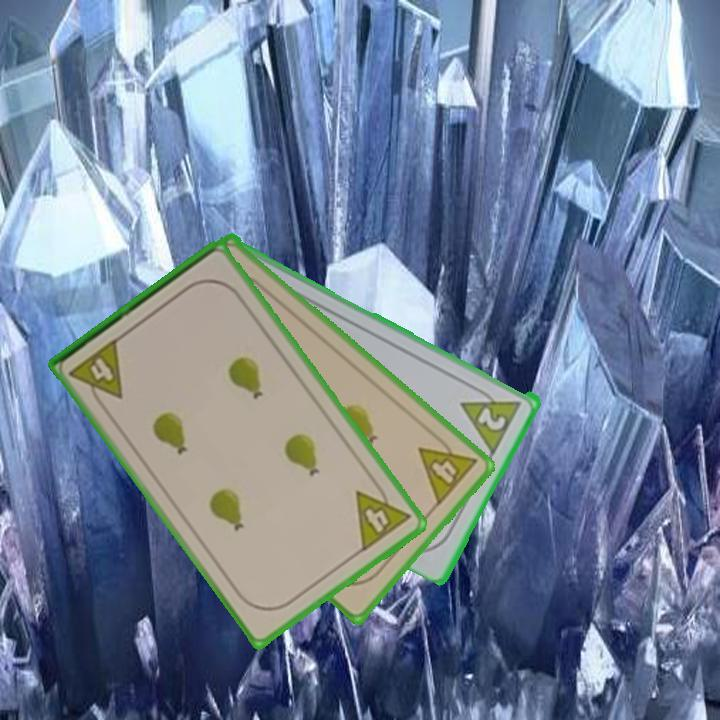2p: (457, 380, 526, 455)
4p: (415, 428, 480, 509), (352, 475, 413, 555), (65, 334, 127, 412)
